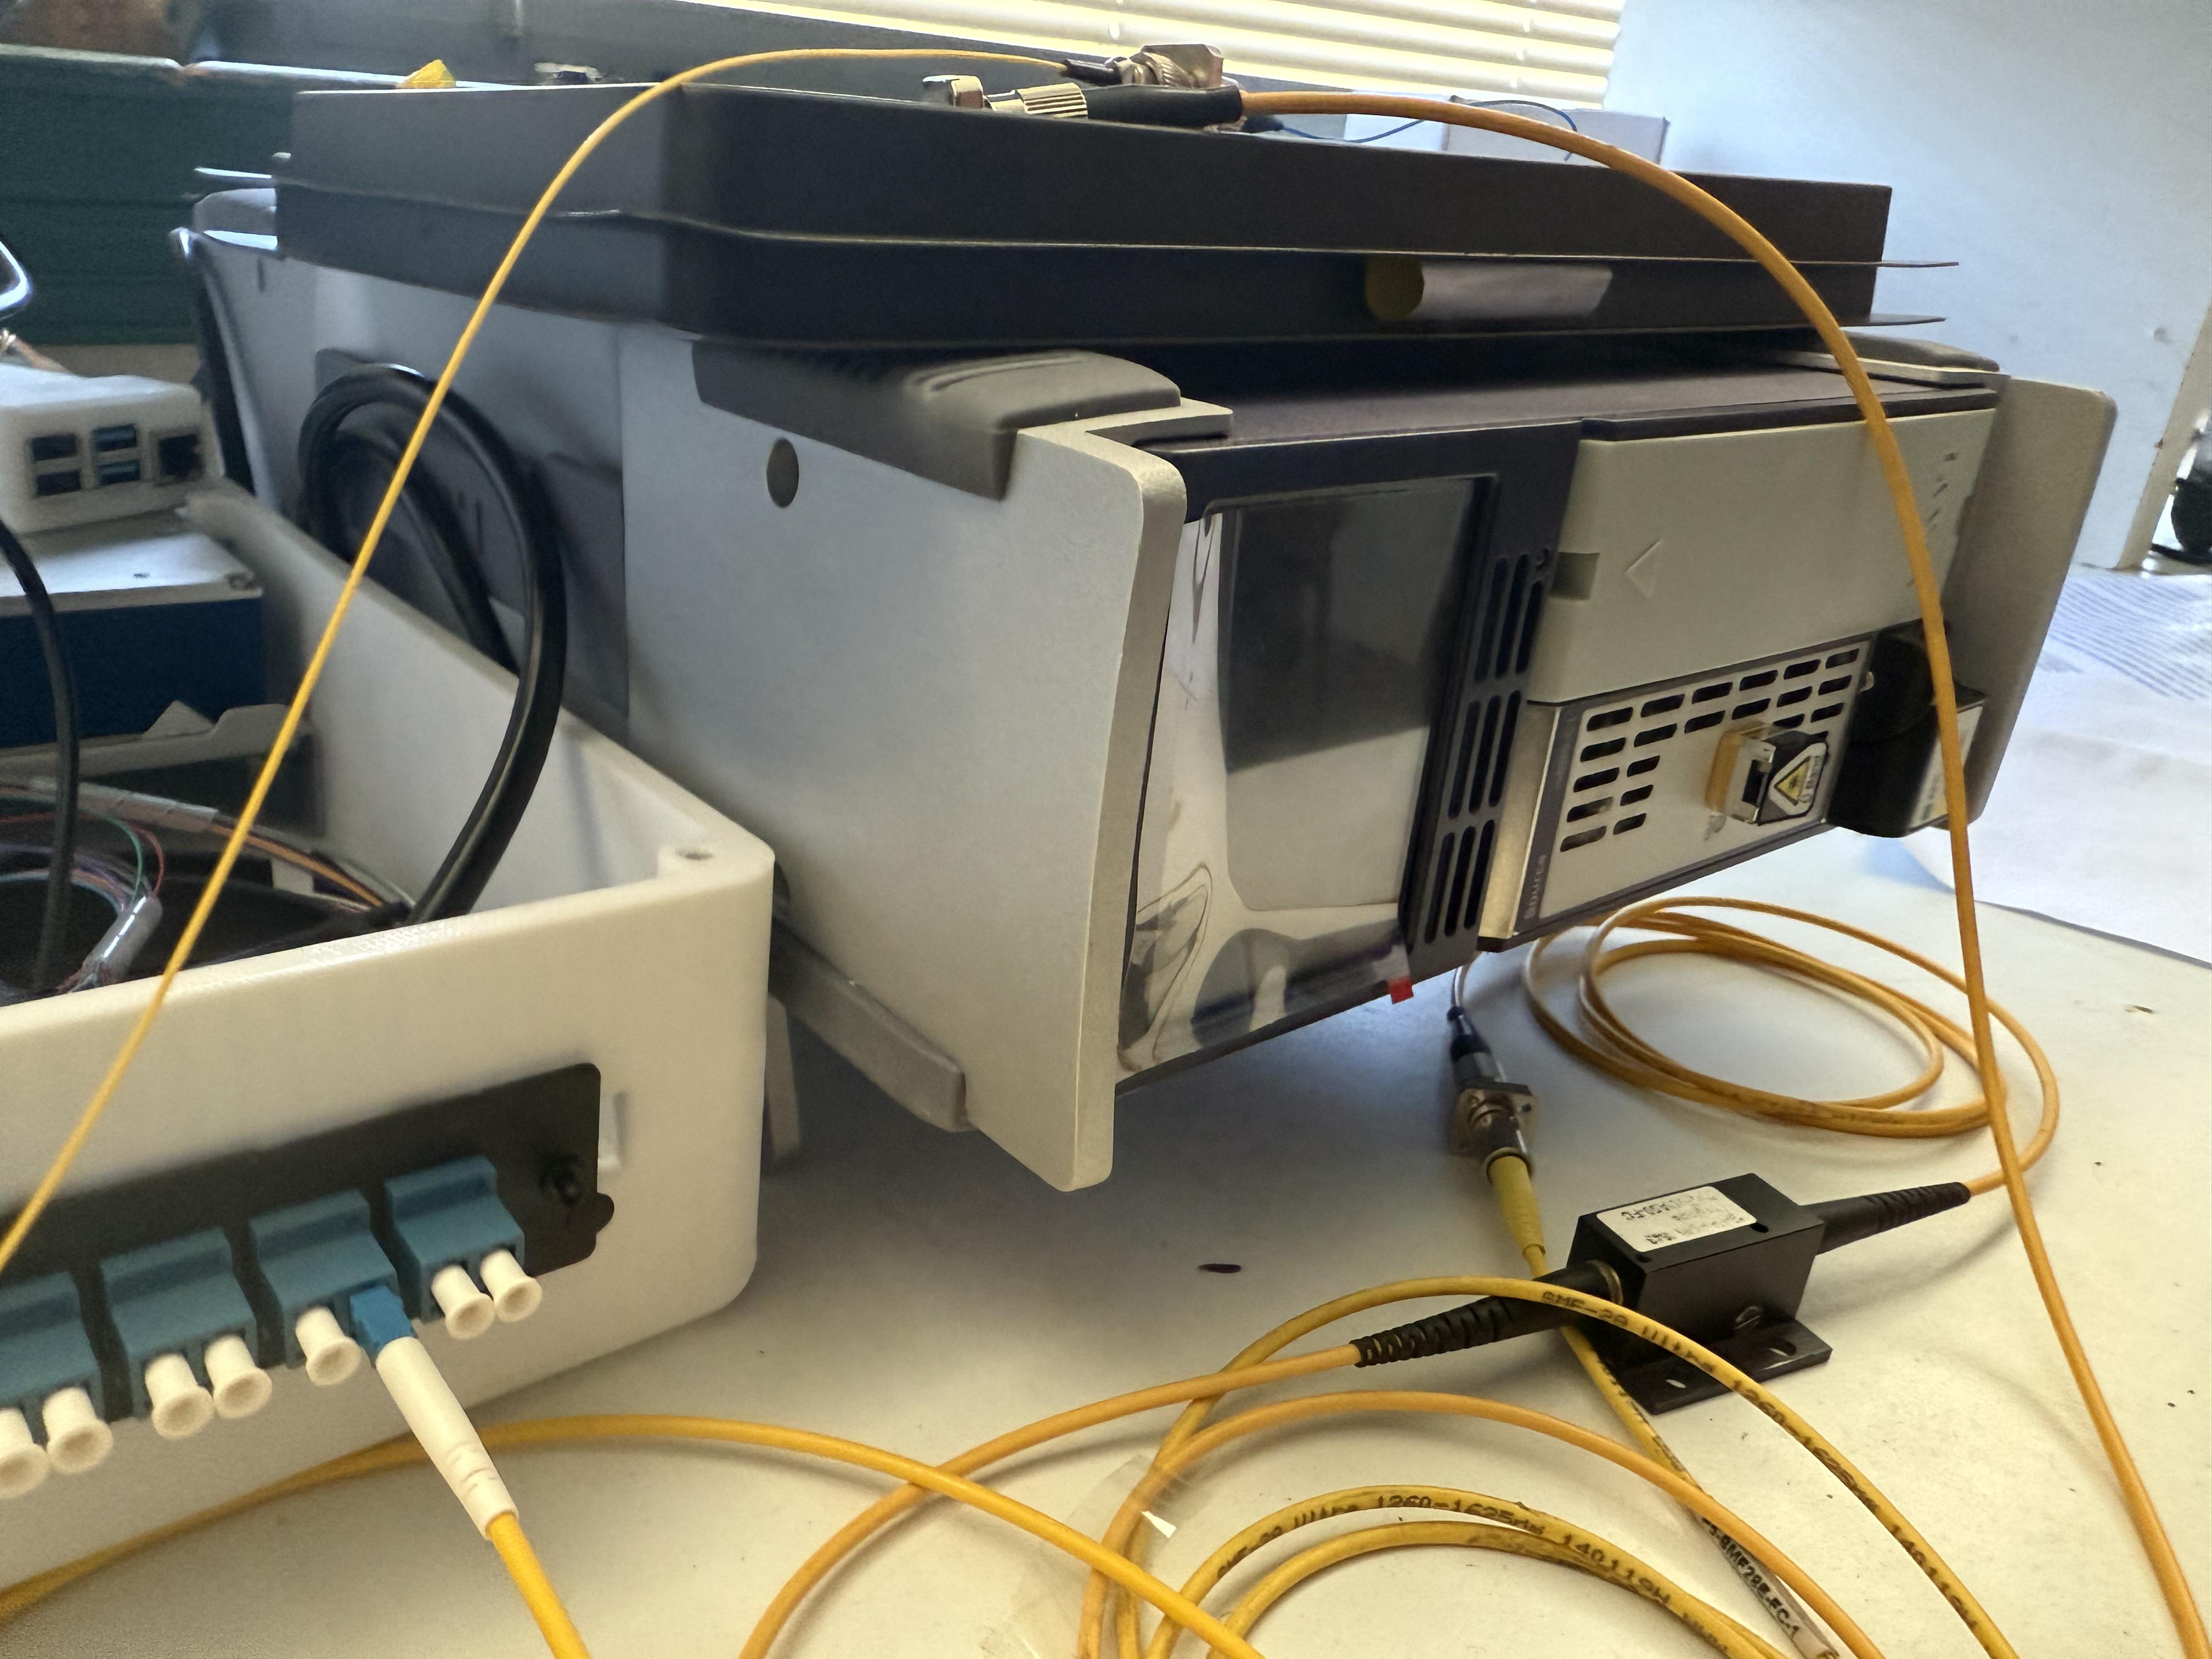fiber_cable: (211, 1272, 2212, 1659)
laser: (153, 225, 2121, 1185)
